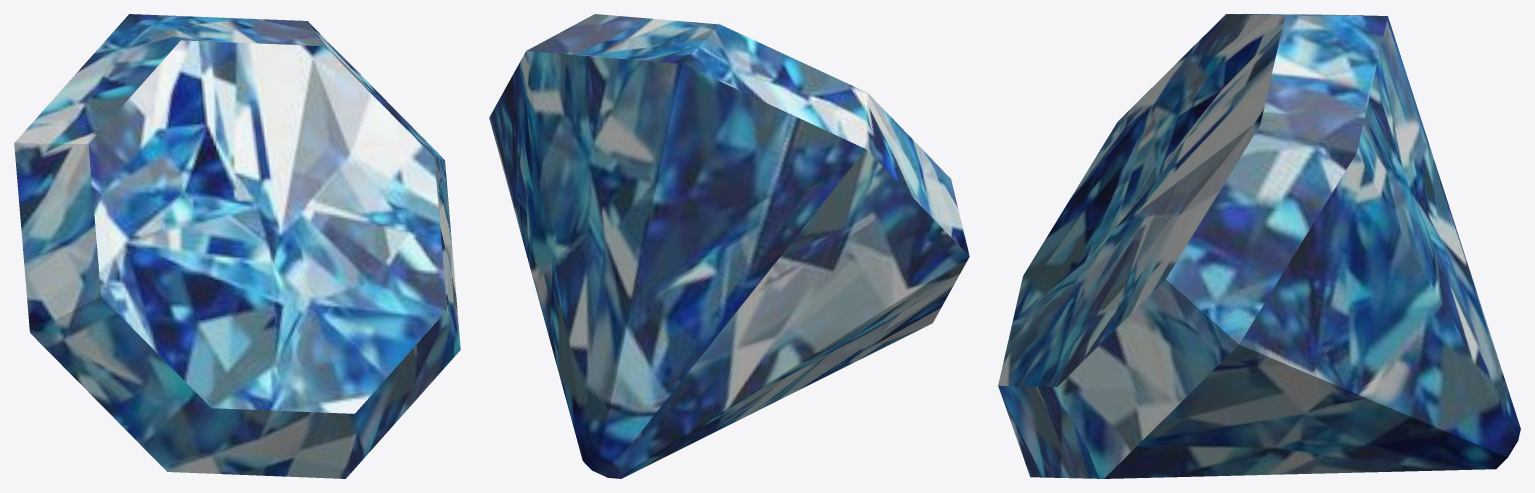
File: Diamond.fbx
3 renders of one model, left to right at view 1: azimuth 30°, elevation 25°; view 2: azimuth 150°, elevation 25°; view 3: azimuth 270°, elevation 25°, orthographic. The views are drawn at different scales.
Visible parts, largest first — view 1: Diamond; view 2: Diamond; view 3: Diamond.
Part boxes in pixels (x1=…): Diamond: x1=14, y1=14, x2=460, y2=478; Diamond: x1=489, y1=14, x2=969, y2=478; Diamond: x1=998, y1=14, x2=1520, y2=478.
Size of the model in its own units: 29.09 by 24.02 by 25.76.
